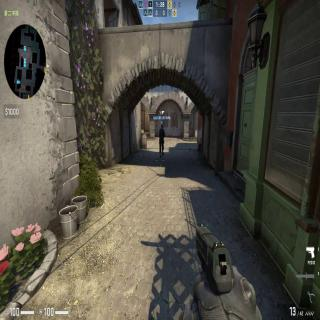CT-Body: (159, 124, 165, 158)
